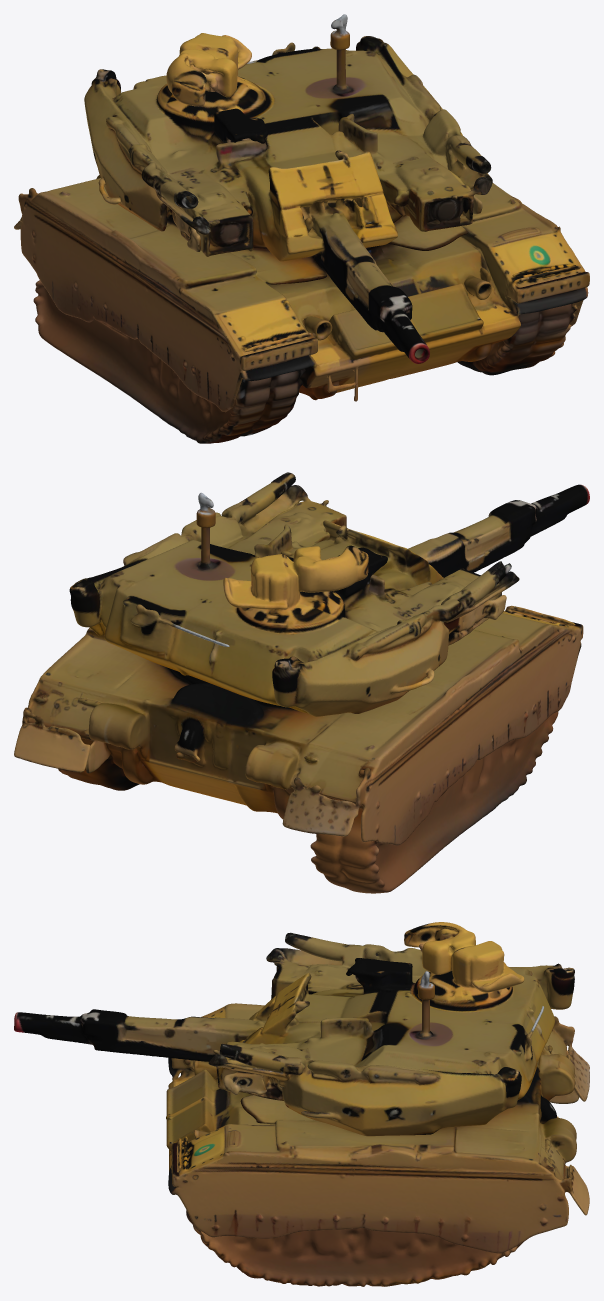
Rendered from military tank 3d model.glb.
3 renders of one model, top to bottom at view 1: azimuth 30°, elevation 25°; view 2: azimuth 150°, elevation 25°; view 3: azimuth 270°, elevation 25°, orthographic. The views are drawn at different scales.
Parts seen in each view (by area): view 1: tripo_node_be28163b-96b0-496c-87f5-8c87415a0352; view 2: tripo_node_be28163b-96b0-496c-87f5-8c87415a0352; view 3: tripo_node_be28163b-96b0-496c-87f5-8c87415a0352.
Boxes of the visible parts, x1=… form: tripo_node_be28163b-96b0-496c-87f5-8c87415a0352: x1=14, y1=14, x2=589, y2=443; tripo_node_be28163b-96b0-496c-87f5-8c87415a0352: x1=14, y1=472, x2=589, y2=893; tripo_node_be28163b-96b0-496c-87f5-8c87415a0352: x1=14, y1=922, x2=589, y2=1286.
Size of the model in its own units: 0.6279 by 0.5401 by 1.
1 material, 1 textured.
